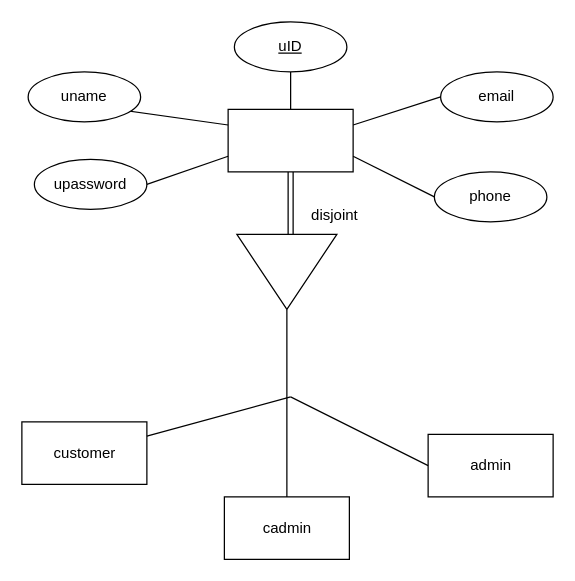
The diagram is 575 pixels wide and 581 high, and some of its shapes have lost their labels. The box of each missing label's shape, as (x1, y1, x2, y2) in pixels:
ISA: (236, 233, 337, 309)
user: (227, 108, 353, 172)
